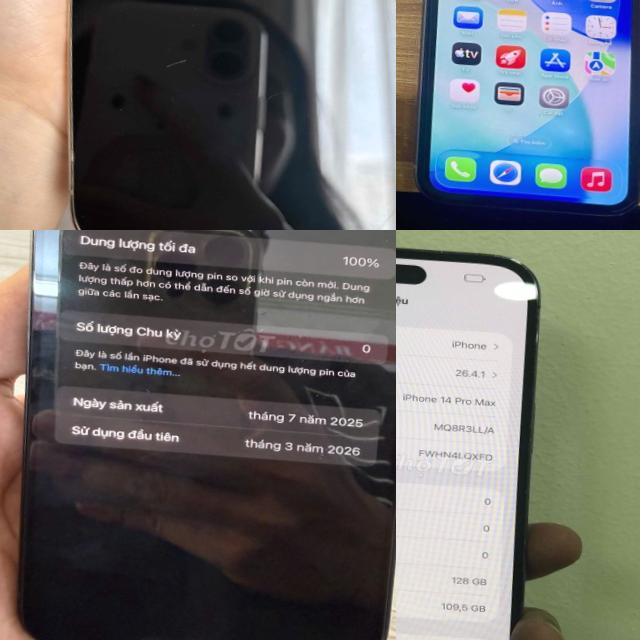gen_11: (396, 0, 640, 227)
gen_12_13: (23, 0, 396, 230)
gen_14: (396, 230, 576, 640)
gen_15: (0, 230, 396, 640)
